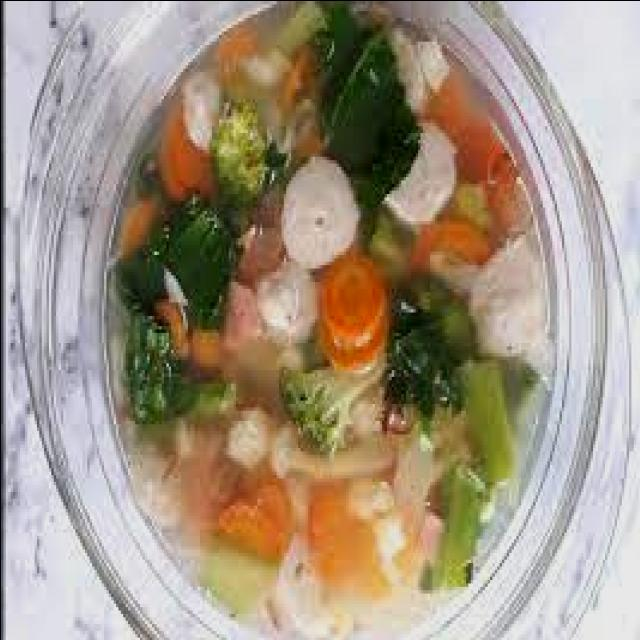sop: (101, 0, 544, 620)
